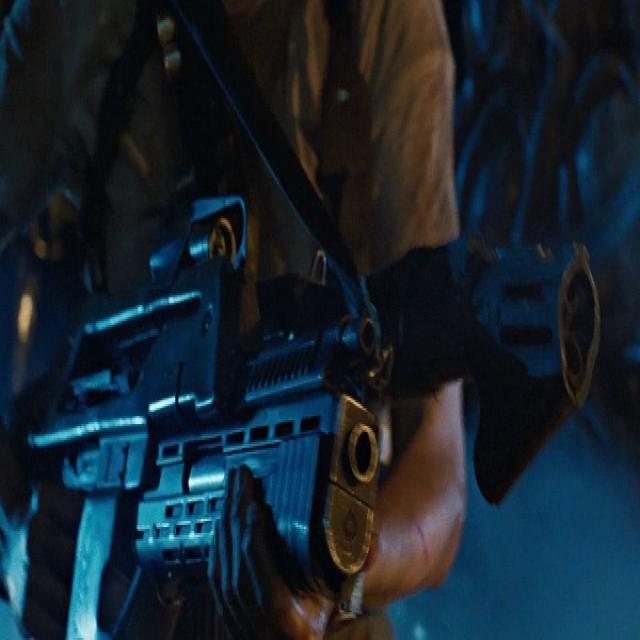rifle: (1, 187, 379, 640)
